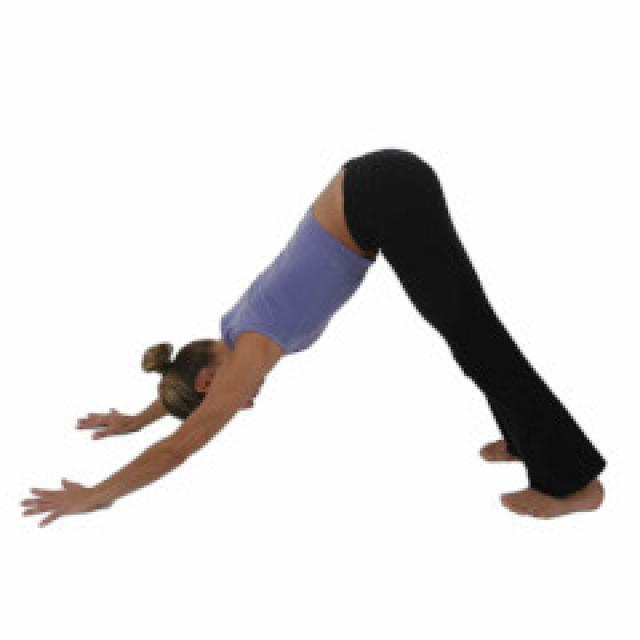yoga-pose downward: (16, 138, 596, 534)
